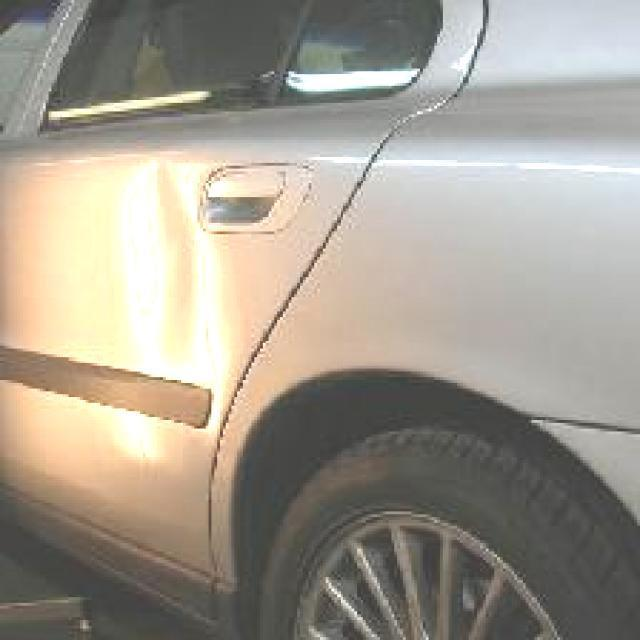minor: (108, 138, 214, 385)
